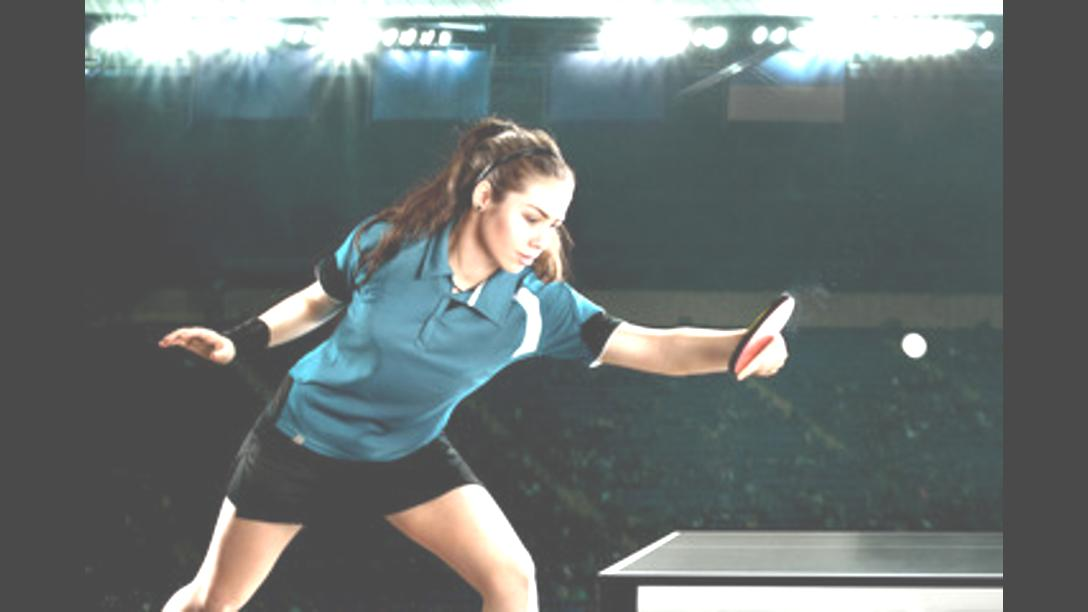Table-Tennis-Ball: (902, 334, 926, 356)
